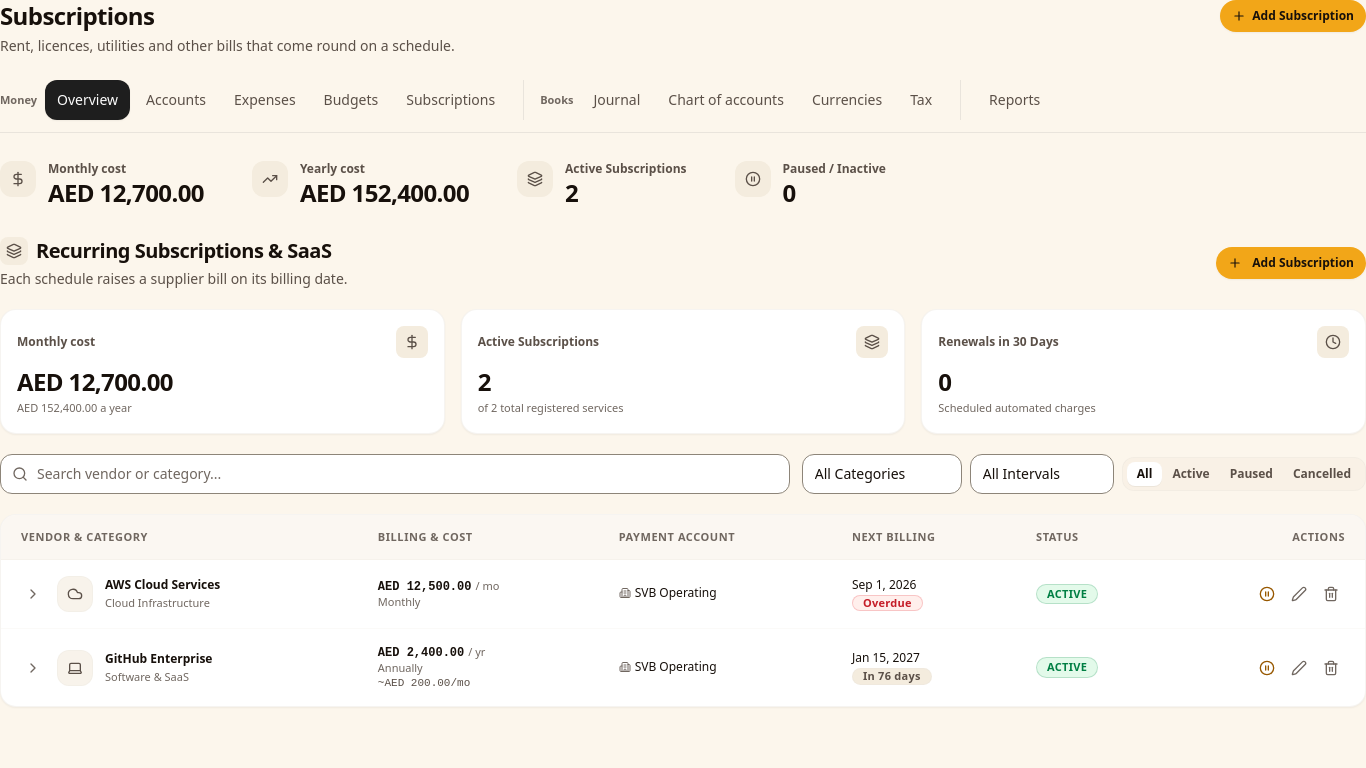
Finance Routes & Views Suite › SubscriptionsView (/finance/subscriptions) › opens add subscription modal when clicking Add Subscription
Click the button with test id "add-subscription-btn" at (1293, 16), box x1=1220 y1=0 x2=1365 y2=32
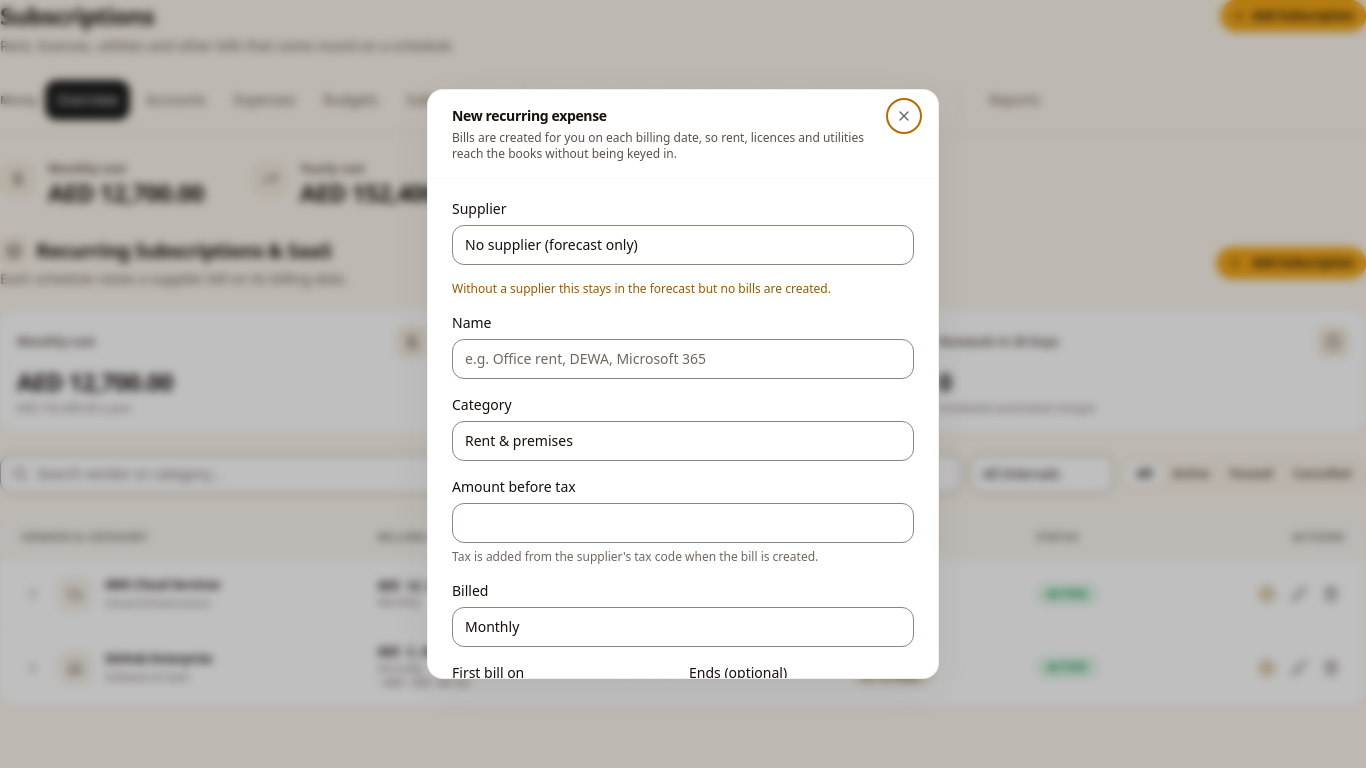
Expected: the heading "New recurring expense" is shown, x1=452 y1=106 x2=607 y2=125
